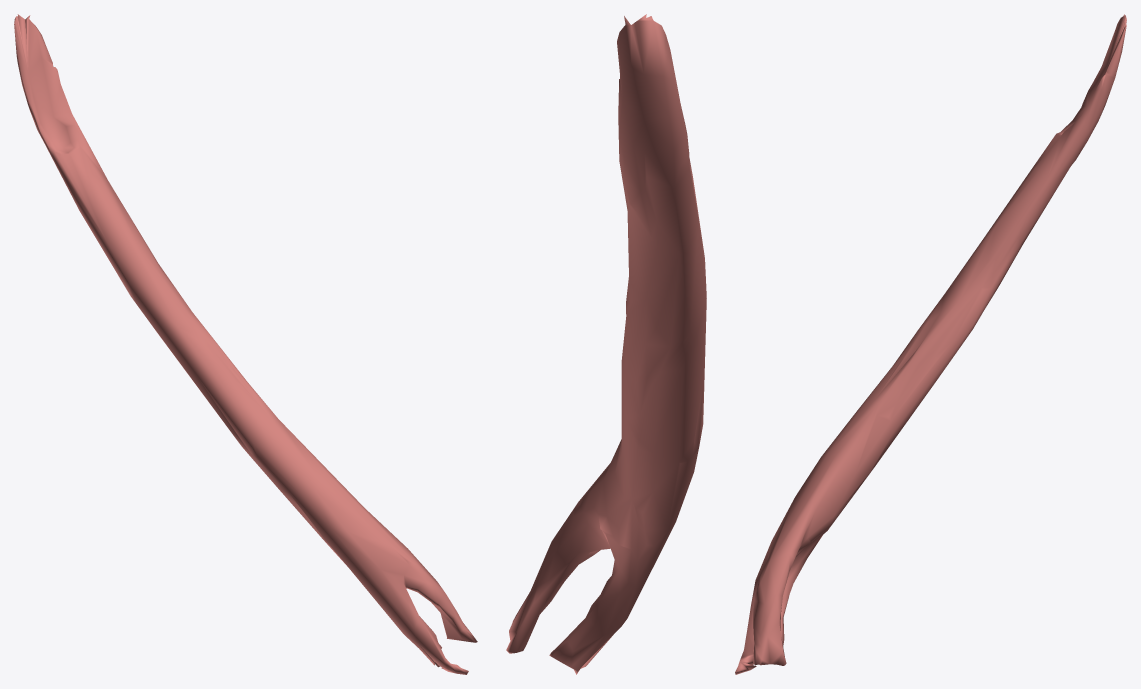
3 renders of one model, left to right at view 1: azimuth 30°, elevation 25°; view 2: azimuth 150°, elevation 25°; view 3: azimuth 270°, elevation 25°, orthographic. The views are drawn at different scales.
Parts seen in each view (by area): view 1: ZA_37c5573b2c3bd004; view 2: ZA_37c5573b2c3bd004; view 3: ZA_37c5573b2c3bd004.
Part boxes in pixels (bbox=[...]): ZA_37c5573b2c3bd004: bbox=[14, 14, 477, 674]; ZA_37c5573b2c3bd004: bbox=[506, 14, 706, 674]; ZA_37c5573b2c3bd004: bbox=[735, 14, 1126, 674].
Size of the model in its own units: 0.0316 by 0.0628 by 0.0408.
